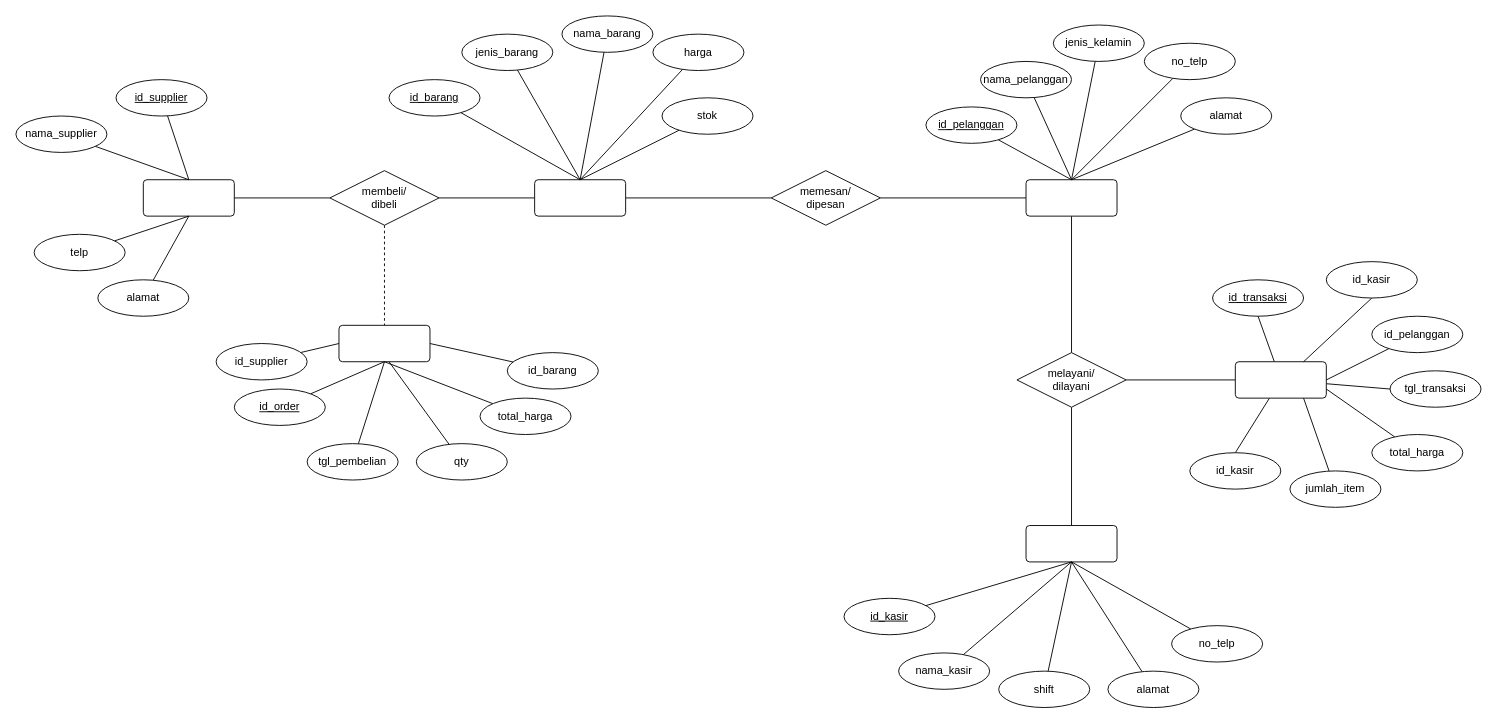
The diagram is 1497 pixels wide and 723 high, and some of its shapes have lost their labels. Here are the shapes that lost their labels. From the top down, the box of each, then its label:
(142, 179, 234, 216): supplier
(534, 179, 626, 216): barang
(1025, 179, 1117, 216): pelanggan
(338, 324, 430, 362): order
(1234, 361, 1326, 398): transaksi
(1025, 525, 1117, 562): kasir
